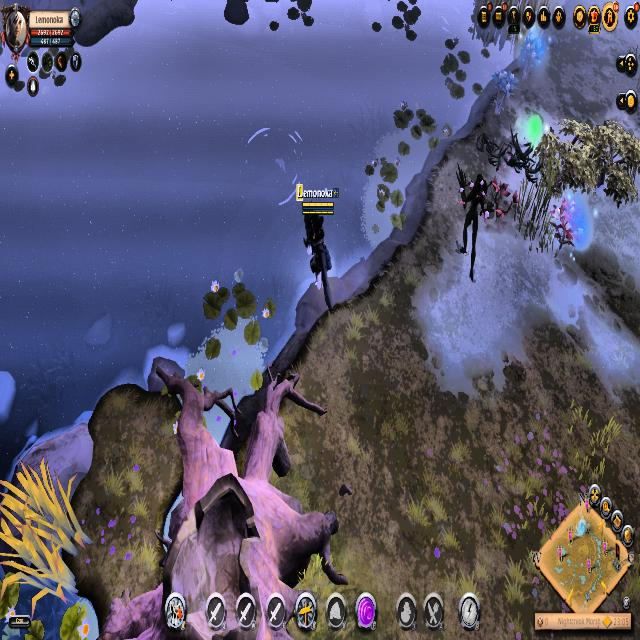fiber tier 4: (492, 64, 518, 115), (521, 31, 546, 81)
fiber tier 5: (550, 190, 586, 256)
